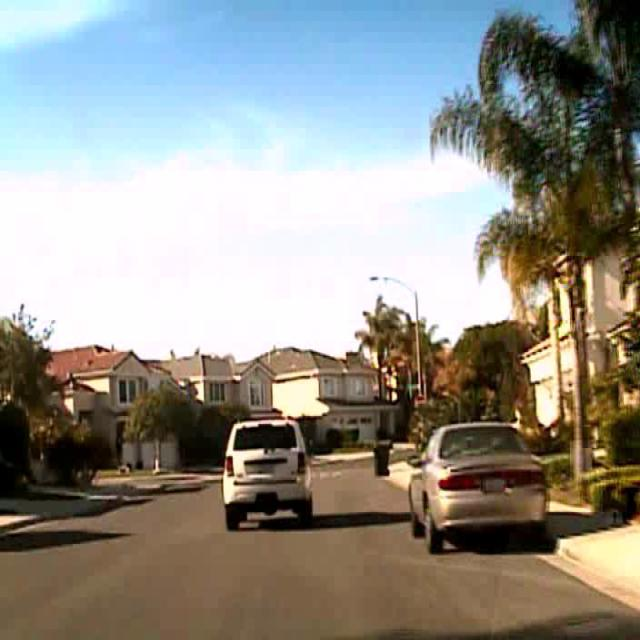stop_sign: (414, 393, 426, 411)
